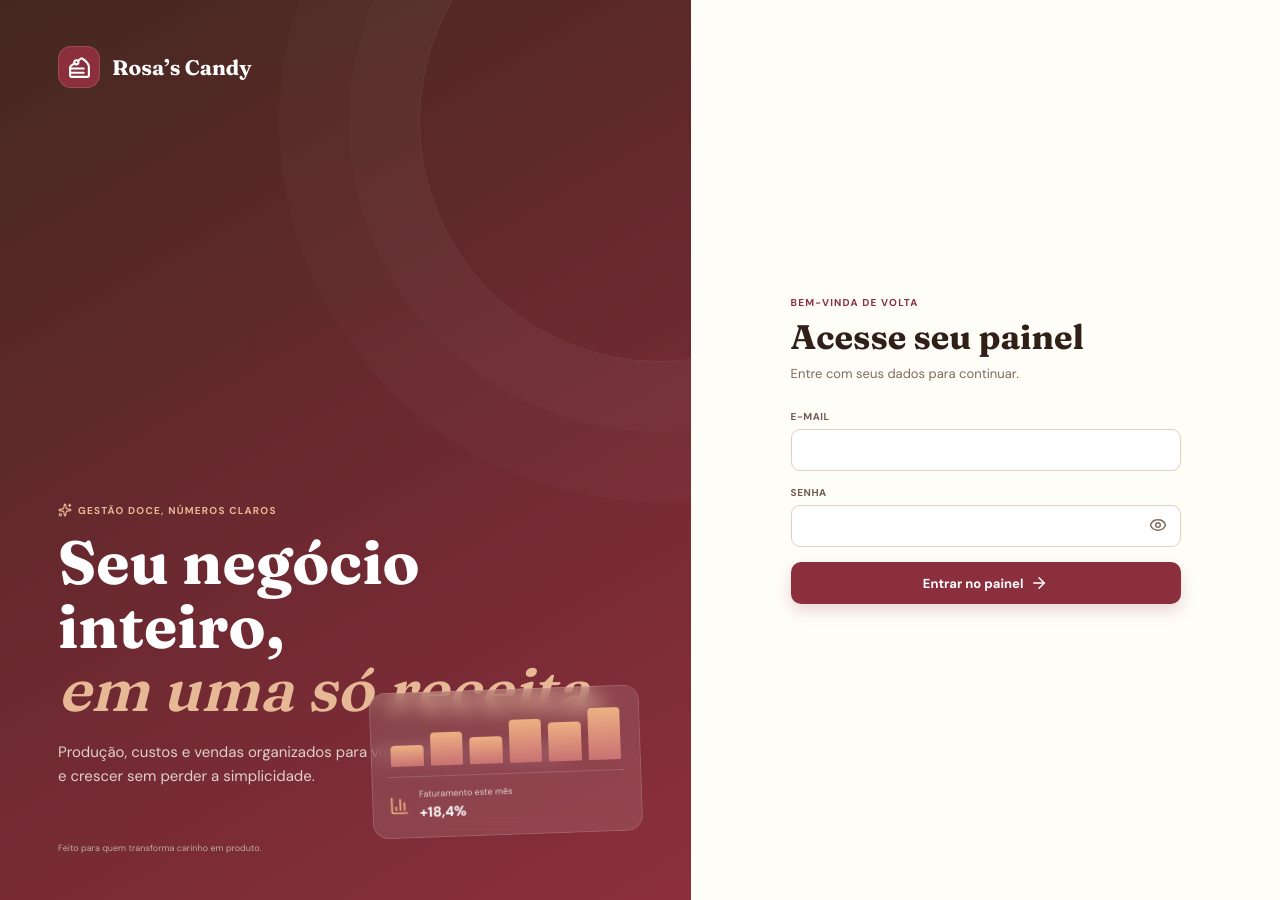
Scenario: mostra erro de autenticacao sem criar uma sessao
The image size is (1280, 900).
Type "usuario@exemplo.com" into the field labelled "E-mail".
click(986, 450); type("usuario@exemplo.com")  # box [791,429,1181,471]
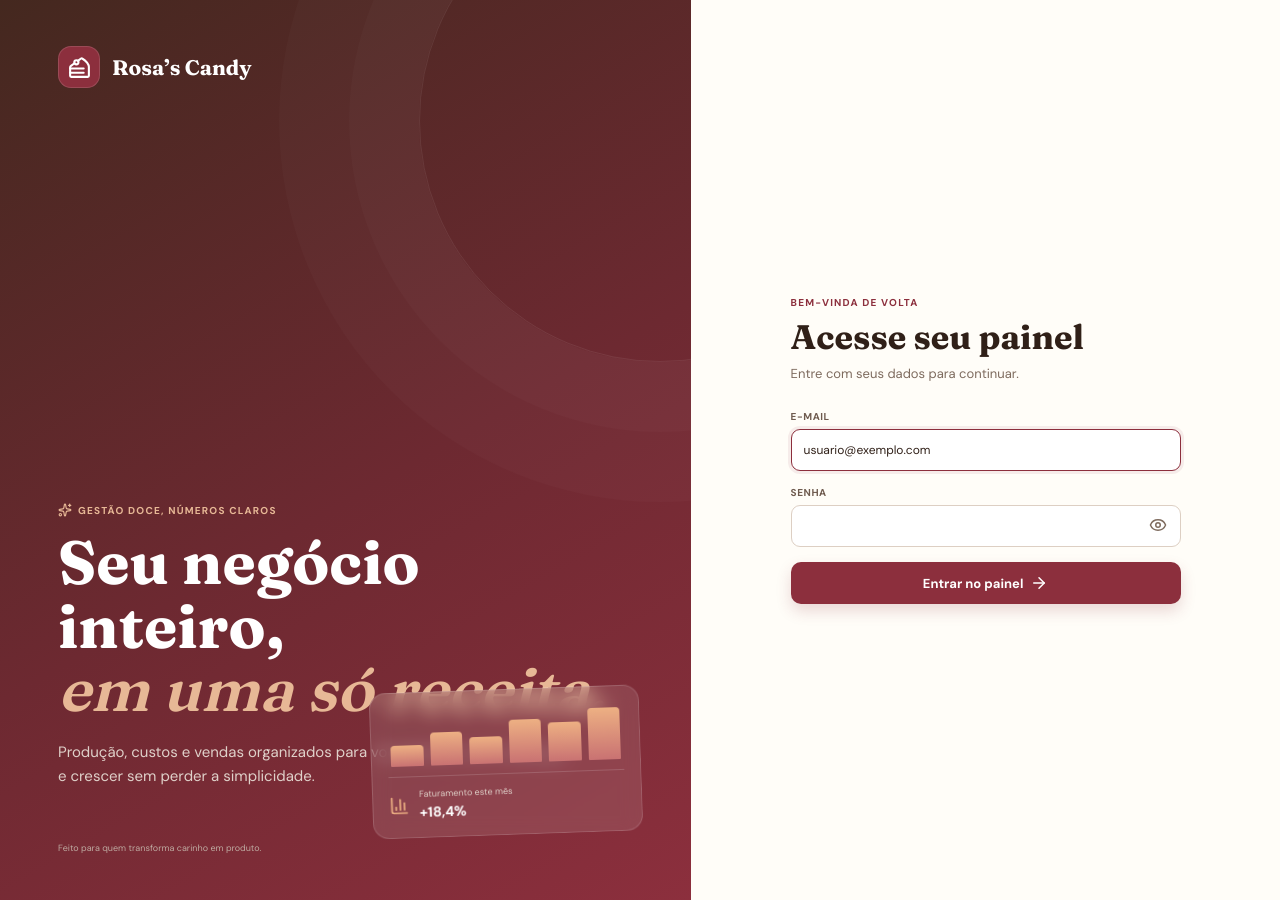
Type "senha-segura" into the password field labelled "Senha".
click(986, 526); type("senha-segura")  # box [791,505,1181,547]
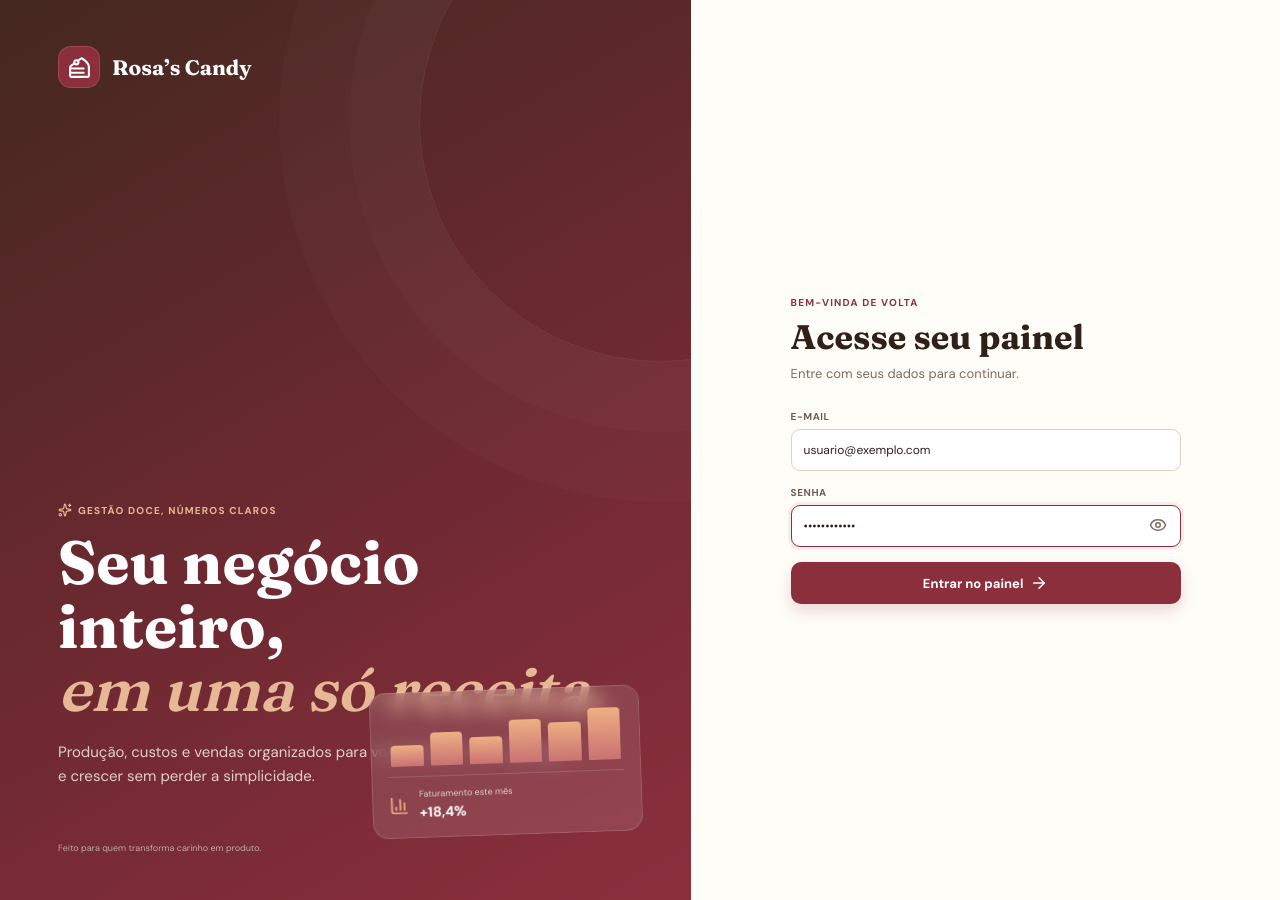
Click the button "Entrar no painel".
click(986, 583)  # box [791,562,1181,604]
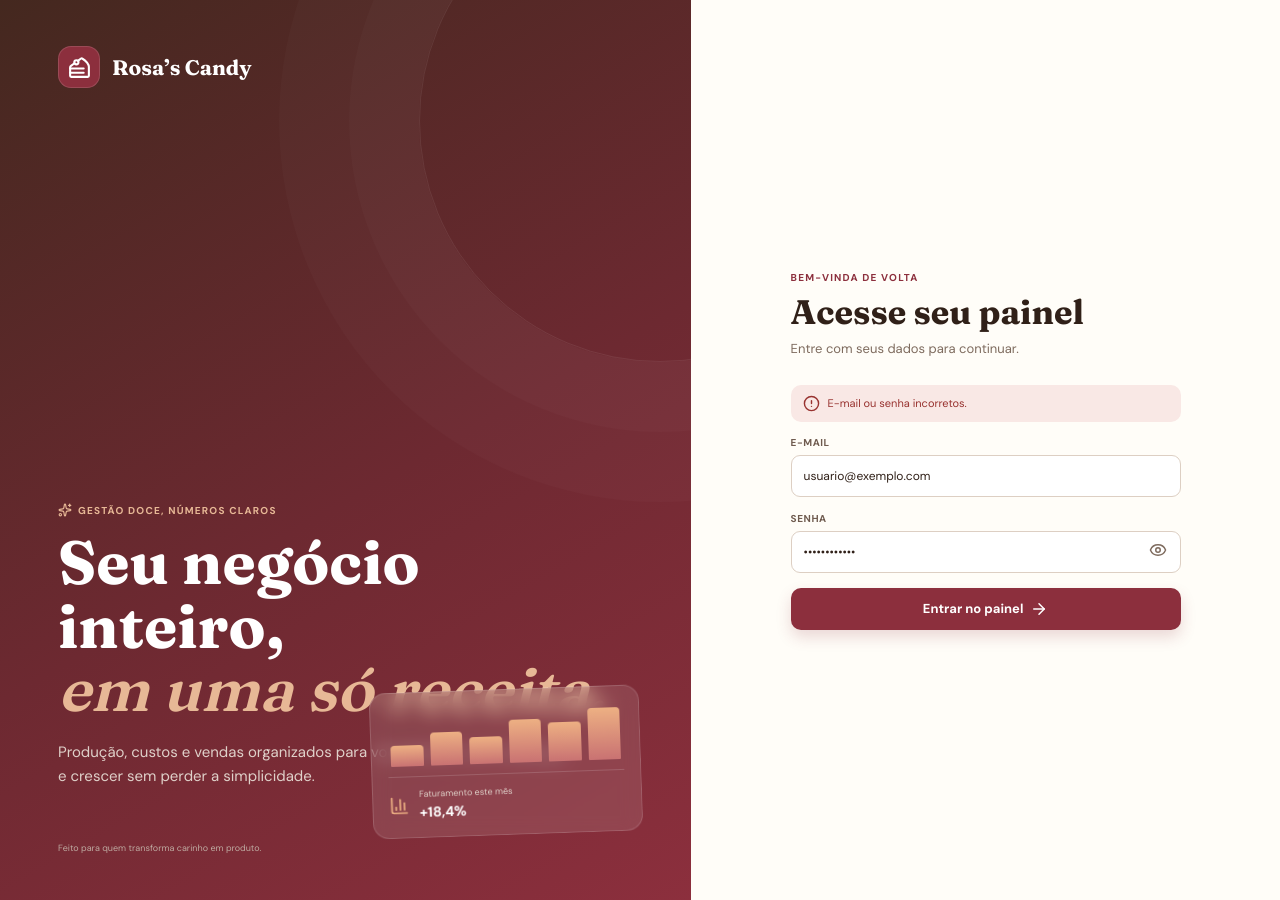
Expected: the text "E-mail ou senha incorretos." is shown, [791,384,1181,422]
